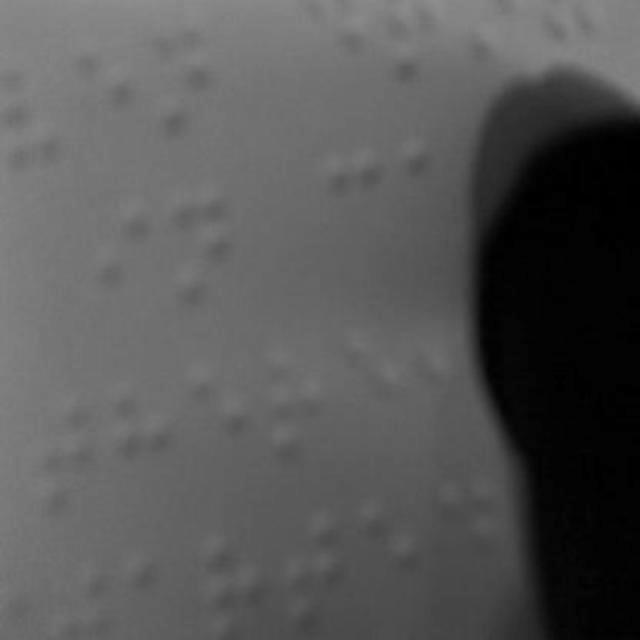braiile: (318, 144, 387, 292), (168, 180, 236, 330), (112, 380, 184, 518), (340, 322, 412, 460), (96, 201, 164, 341), (278, 500, 346, 640), (267, 338, 337, 472), (188, 358, 256, 492), (362, 493, 428, 631), (154, 10, 220, 146), (40, 404, 106, 536), (0, 58, 72, 172), (78, 35, 138, 168)
